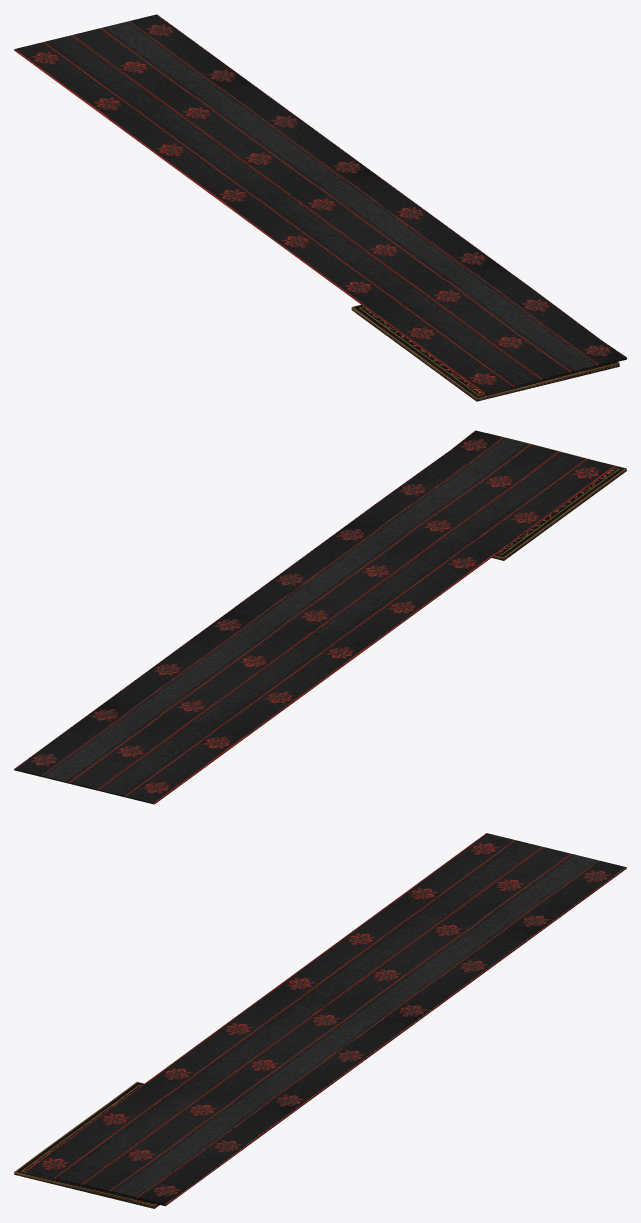
File: Carpets.glb
The picture shows the model from 3 angles, top to bottom: view 1: azimuth 30°, elevation 25°; view 2: azimuth 150°, elevation 25°; view 3: azimuth 330°, elevation 25°; orthographic projection.
Visible parts, largest first — view 1: Carpet3, Carpe2, Carpet1; view 2: Carpet3, Carpe2; view 3: Carpet3, Carpe2.
Part boxes in pixels (x1=…): Carpet3: x1=14, y1=14, x2=626, y2=394; Carpe2: x1=351, y1=305, x2=619, y2=399; Carpet1: x1=351, y1=309, x2=619, y2=401; Carpet3: x1=14, y1=430, x2=615, y2=804; Carpe2: x1=487, y1=433, x2=626, y2=558; Carpet3: x1=25, y1=833, x2=626, y2=1206; Carpe2: x1=14, y1=1082, x2=157, y2=1206.
Size of the model in its own units: 2.81 by 0.0994 by 15.08.
3 materials, 3 textured.
